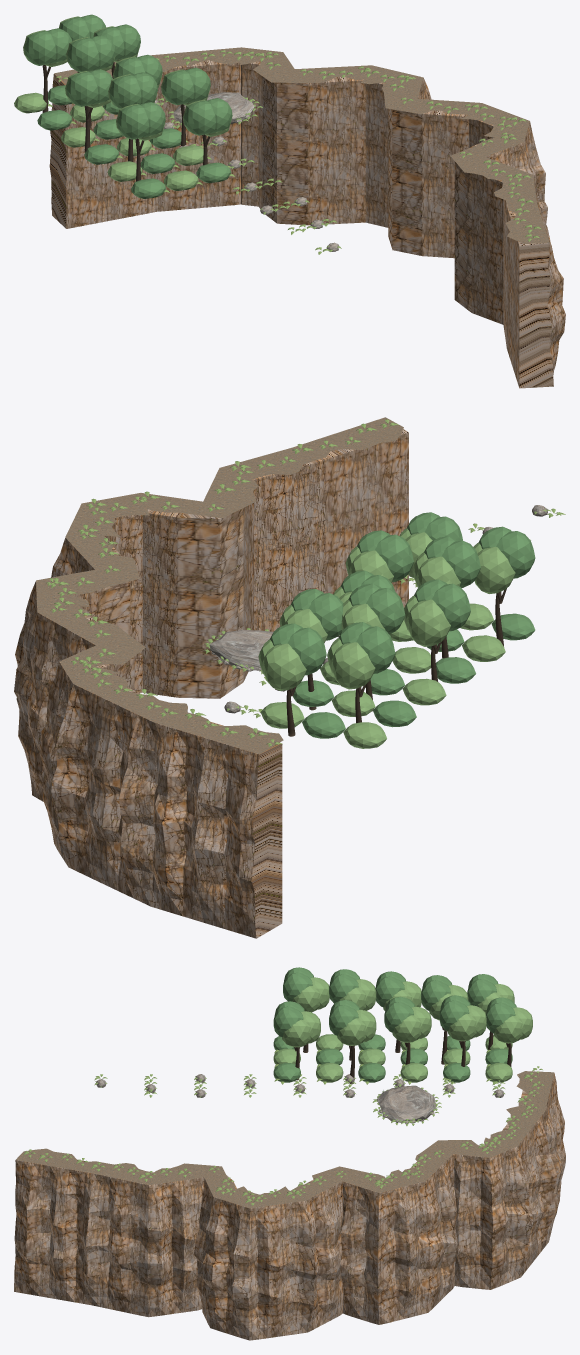
Rendered from scenic_cliff-refined-v5.glb.
3 views of the same model, one above another, from view 1: azimuth 30°, elevation 25°; view 2: azimuth 150°, elevation 25°; view 3: azimuth 270°, elevation 25° (orthographic). The views are drawn at different scales.
Visible parts, largest first — view 1: scenic_cliff | scenic:cliff-face:14.002, scenic_cliff | scenic:green-crown.005, scenic_cliff | scenic:cliff-lip.002, scenic_cliff | scenic:green-crown.004, scenic_cliff | scenic:leaf-sprig.002, scenic_cliff | scenic:continuous-branch:scenic_cliff.002, scenic_cliff | scenic:seat-boulder.002, scenic_cliff | scenic:rock:0.002; view 2: scenic_cliff | scenic:cliff-face:14.002, scenic_cliff | scenic:green-crown.005, scenic_cliff | scenic:cliff-lip.002, scenic_cliff | scenic:green-crown.004, scenic_cliff | scenic:leaf-sprig.002, scenic_cliff | scenic:seat-boulder.002, scenic_cliff | scenic:continuous-branch:scenic_cliff.002; view 3: scenic_cliff | scenic:cliff-face:14.002, scenic_cliff | scenic:green-crown.004, scenic_cliff | scenic:green-crown.005, scenic_cliff | scenic:cliff-lip.002, scenic_cliff | scenic:leaf-sprig.002, scenic_cliff | scenic:seat-boulder.002, scenic_cliff | scenic:continuous-branch:scenic_cliff.002, scenic_cliff | scenic:rock:0.002.
Part boxes in pixels (<box>): scenic_cliff | scenic:cliff-face:14.002: <box>49,60,565,388</box>; scenic_cliff | scenic:green-crown.005: <box>24,14,232,198</box>; scenic_cliff | scenic:cliff-lip.002: <box>54,47,549,243</box>; scenic_cliff | scenic:green-crown.004: <box>14,16,231,190</box>; scenic_cliff | scenic:leaf-sprig.002: <box>48,50,541,254</box>; scenic_cliff | scenic:continuous-branch:scenic_cliff.002: <box>42,61,210,181</box>; scenic_cliff | scenic:seat-boulder.002: <box>173,92,254,124</box>; scenic_cliff | scenic:rock:0.002: <box>154,100,338,251</box>; scenic_cliff | scenic:cliff-face:14.002: <box>14,429,408,938</box>; scenic_cliff | scenic:green-crown.005: <box>269,512,535,738</box>; scenic_cliff | scenic:cliff-lip.002: <box>36,417,403,754</box>; scenic_cliff | scenic:green-crown.004: <box>258,528,515,748</box>; scenic_cliff | scenic:leaf-sprig.002: <box>46,419,565,746</box>; scenic_cliff | scenic:seat-boulder.002: <box>209,630,273,670</box>; scenic_cliff | scenic:continuous-branch:scenic_cliff.002: <box>286,588,506,736</box>; scenic_cliff | scenic:cliff-face:14.002: <box>14,1073,565,1340</box>; scenic_cliff | scenic:green-crown.004: <box>273,977,532,1082</box>; scenic_cliff | scenic:green-crown.005: <box>273,967,516,1082</box>; scenic_cliff | scenic:cliff-lip.002: <box>16,1071,554,1208</box>; scenic_cliff | scenic:leaf-sprig.002: <box>23,1049,544,1205</box>; scenic_cliff | scenic:seat-boulder.002: <box>376,1085,435,1122</box>; scenic_cliff | scenic:continuous-branch:scenic_cliff.002: <box>294,1027,511,1084</box>; scenic_cliff | scenic:rock:0.002: <box>96,1074,504,1123</box>.
Size of the model in its own units: 44.54 by 25.61 by 59.92.
Materials: 8 (4 with a texture image).
